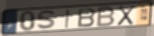0: (17, 10, 37, 32)
B: (95, 6, 116, 28), (77, 8, 96, 28)
I: (64, 9, 71, 29)
S: (36, 10, 58, 31)
X: (116, 5, 137, 27)
